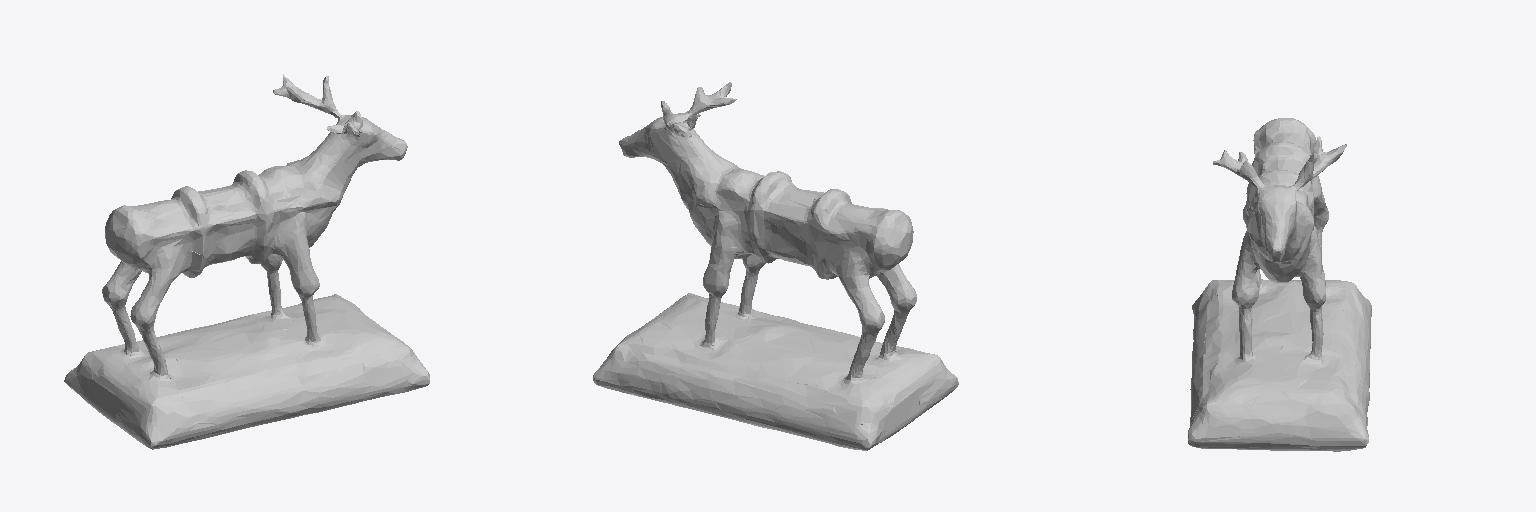
Rendered from Ramses v2.obj.
3 views of the same model, side by side, from view 1: azimuth 30°, elevation 25°; view 2: azimuth 150°, elevation 25°; view 3: azimuth 270°, elevation 25° (orthographic).
Visible parts, largest first — view 1: Mesh_0; view 2: Mesh_0; view 3: Mesh_0.
Boxes of the visible parts, x1,y1,x2,y2 form: Mesh_0: [64, 74, 429, 449]; Mesh_0: [593, 82, 958, 450]; Mesh_0: [1188, 118, 1371, 451].
Bounding box in the file's own units: 1.2 × 1.12 × 0.6412.